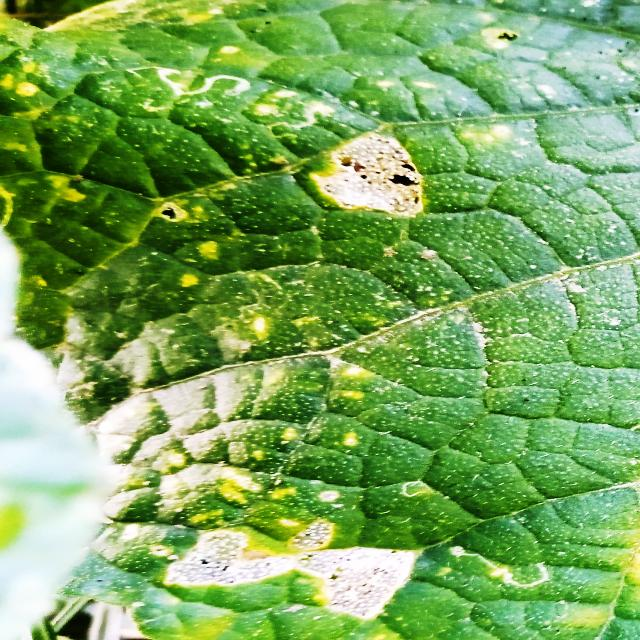Anthracnose: (160, 512, 424, 624), (302, 126, 434, 218)
